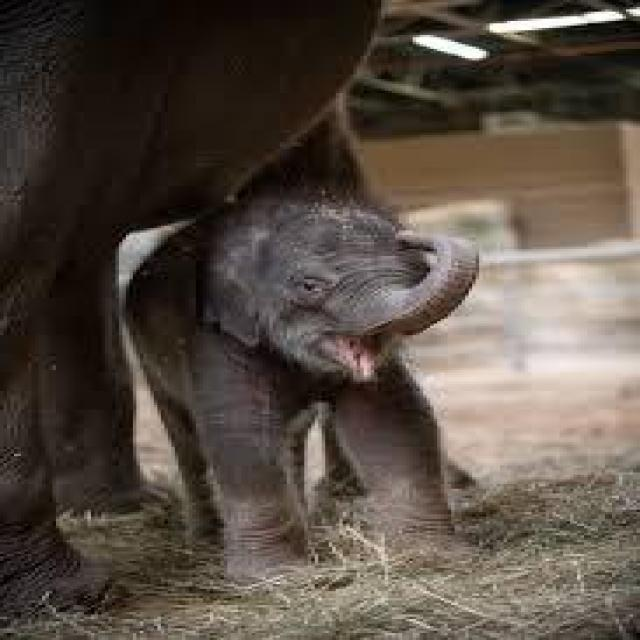Elephant: (130, 177, 483, 589)
